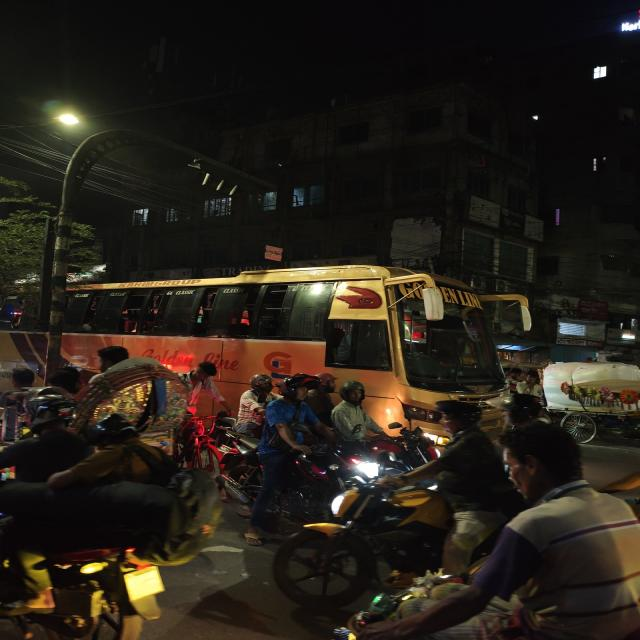bus: (32, 254, 518, 406)
motorcycle: (222, 424, 528, 634), (0, 422, 219, 640), (326, 381, 424, 485)
pedestrian: (486, 442, 640, 639)
rickshaw: (78, 357, 196, 455), (556, 359, 640, 450)
